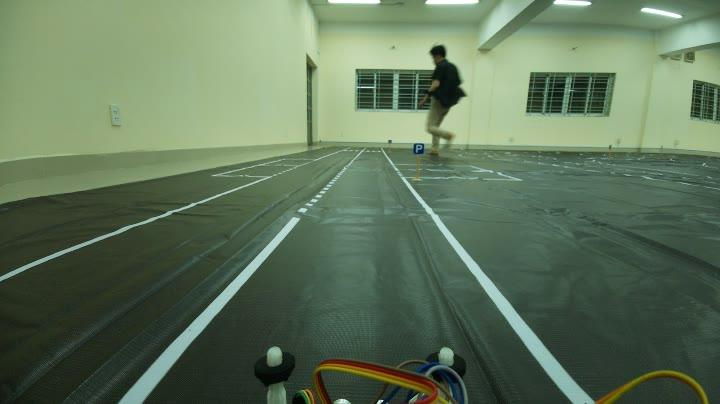parking: (410, 138, 426, 161)
